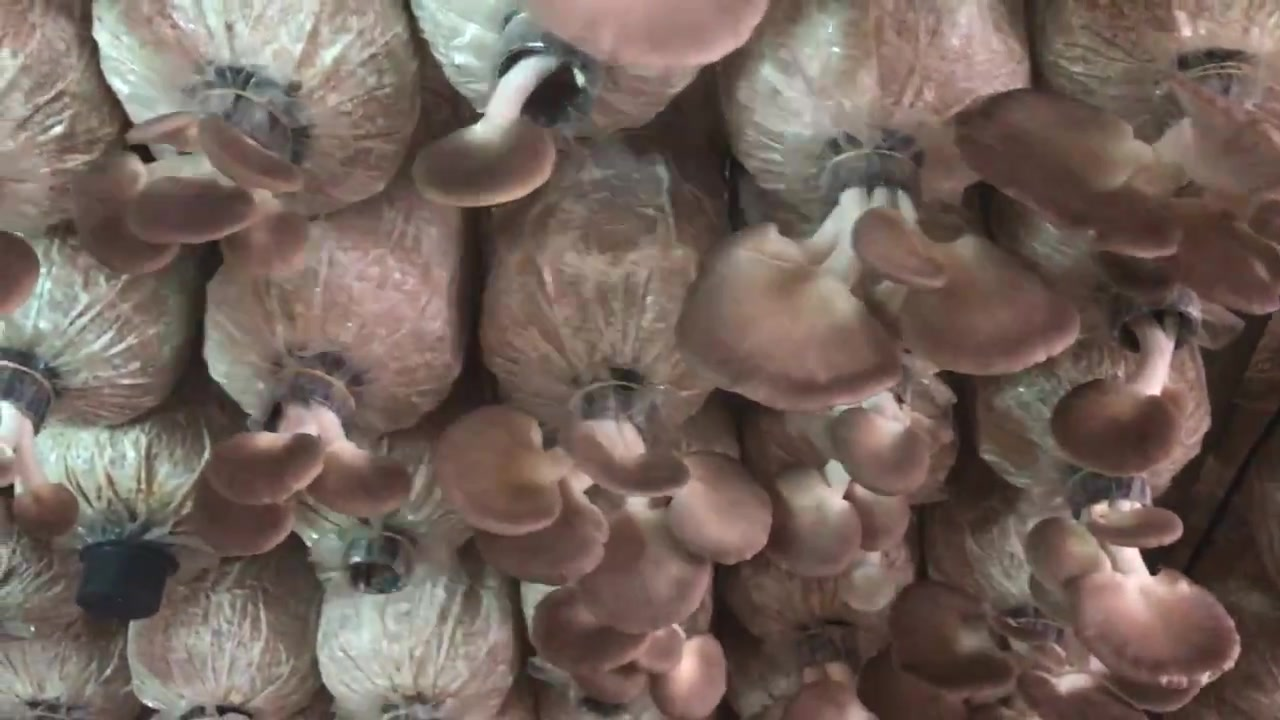nam: (679, 151, 1082, 408), (435, 384, 772, 635), (958, 66, 1279, 309), (1024, 475, 1240, 685), (84, 78, 303, 272), (194, 366, 410, 556), (412, 14, 612, 210), (863, 585, 1138, 720), (1051, 289, 1206, 471), (532, 591, 728, 720), (766, 462, 910, 574), (525, 1, 773, 66), (1, 358, 72, 532), (1, 231, 35, 317)
